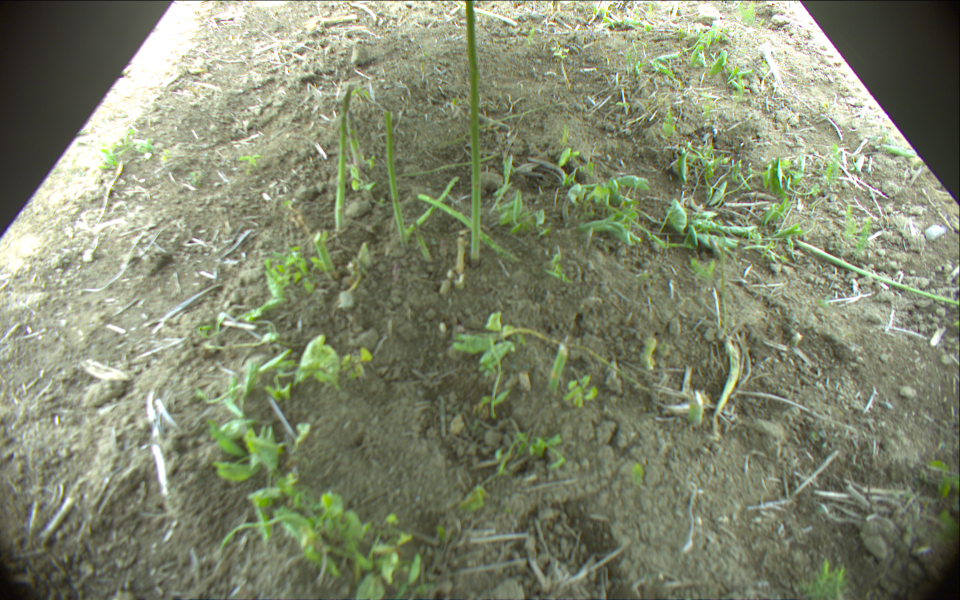aspa: (797, 239, 960, 306), (419, 193, 520, 262), (463, 1, 481, 262), (383, 152, 501, 183), (405, 176, 459, 235), (383, 110, 407, 241), (333, 89, 352, 230), (460, 1, 518, 27), (347, 109, 368, 168), (547, 343, 567, 393), (412, 219, 434, 263), (312, 231, 335, 272)
